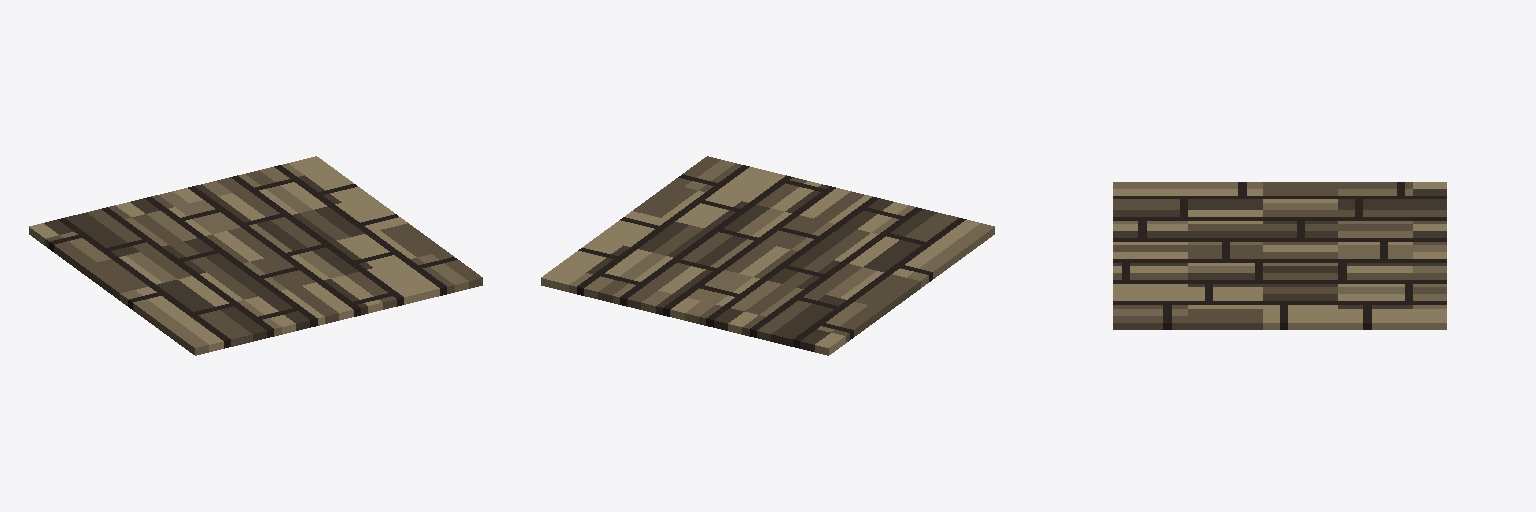
3 renders of one model, left to right at view 1: azimuth 30°, elevation 25°; view 2: azimuth 150°, elevation 25°; view 3: azimuth 270°, elevation 25°, orthographic.
Visible parts, largest first — view 1: object 1; view 2: object 1; view 3: object 1.
Boxes of the visible parts, x1,y1,x2,y2 form: object 1: [29, 156, 482, 355]; object 1: [541, 156, 994, 355]; object 1: [1113, 182, 1446, 329].
Bounding box in the file's own units: 4 × 0.1 × 4.
1 materials, 1 textured.